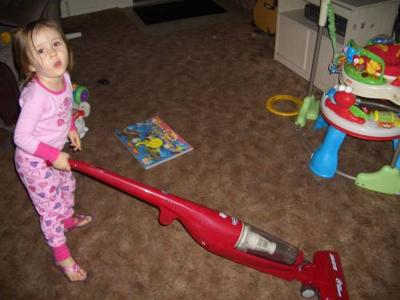person: (11, 19, 95, 283)
